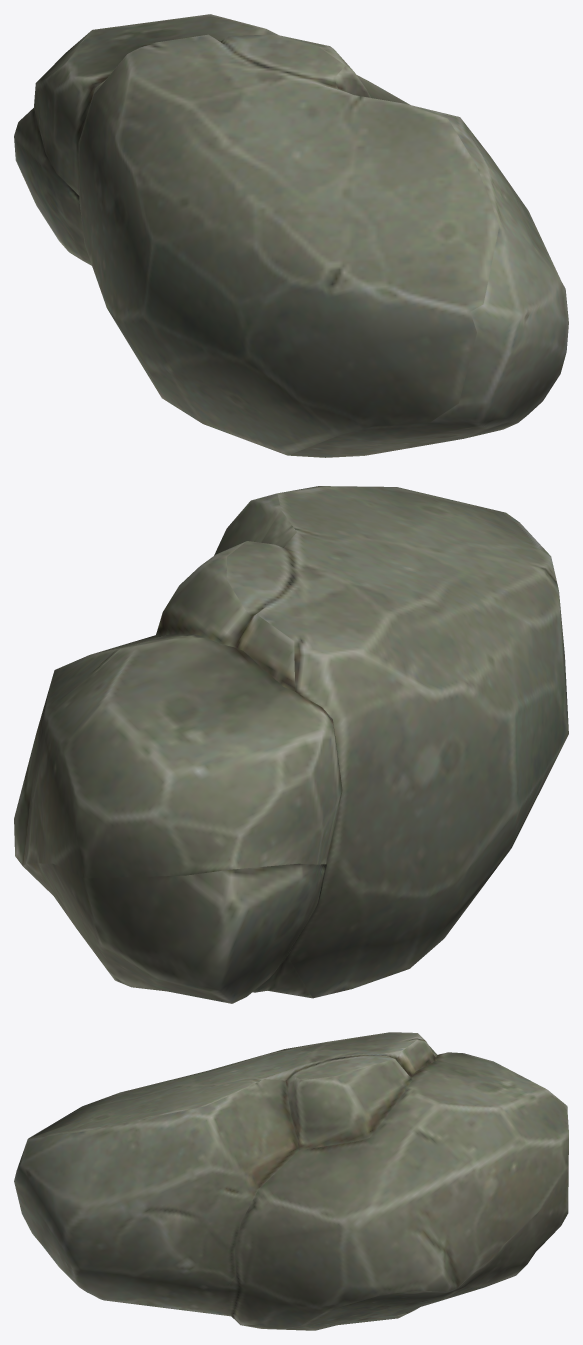
Rendered from Lty_st_06.FBX.
3 renders of one model, top to bottom at view 1: azimuth 30°, elevation 25°; view 2: azimuth 150°, elevation 25°; view 3: azimuth 270°, elevation 25°, orthographic. The views are drawn at different scales.
Visible parts, largest first — view 1: Mesh 1; view 2: Mesh 1; view 3: Mesh 1.
Boxes of the visible parts, x1,y1,x2,y2 form: Mesh 1: (14,14,568,457); Mesh 1: (14,486,568,1003); Mesh 1: (14,1032,568,1330).
Bounding box in the file's own units: 118 × 109 × 213.
